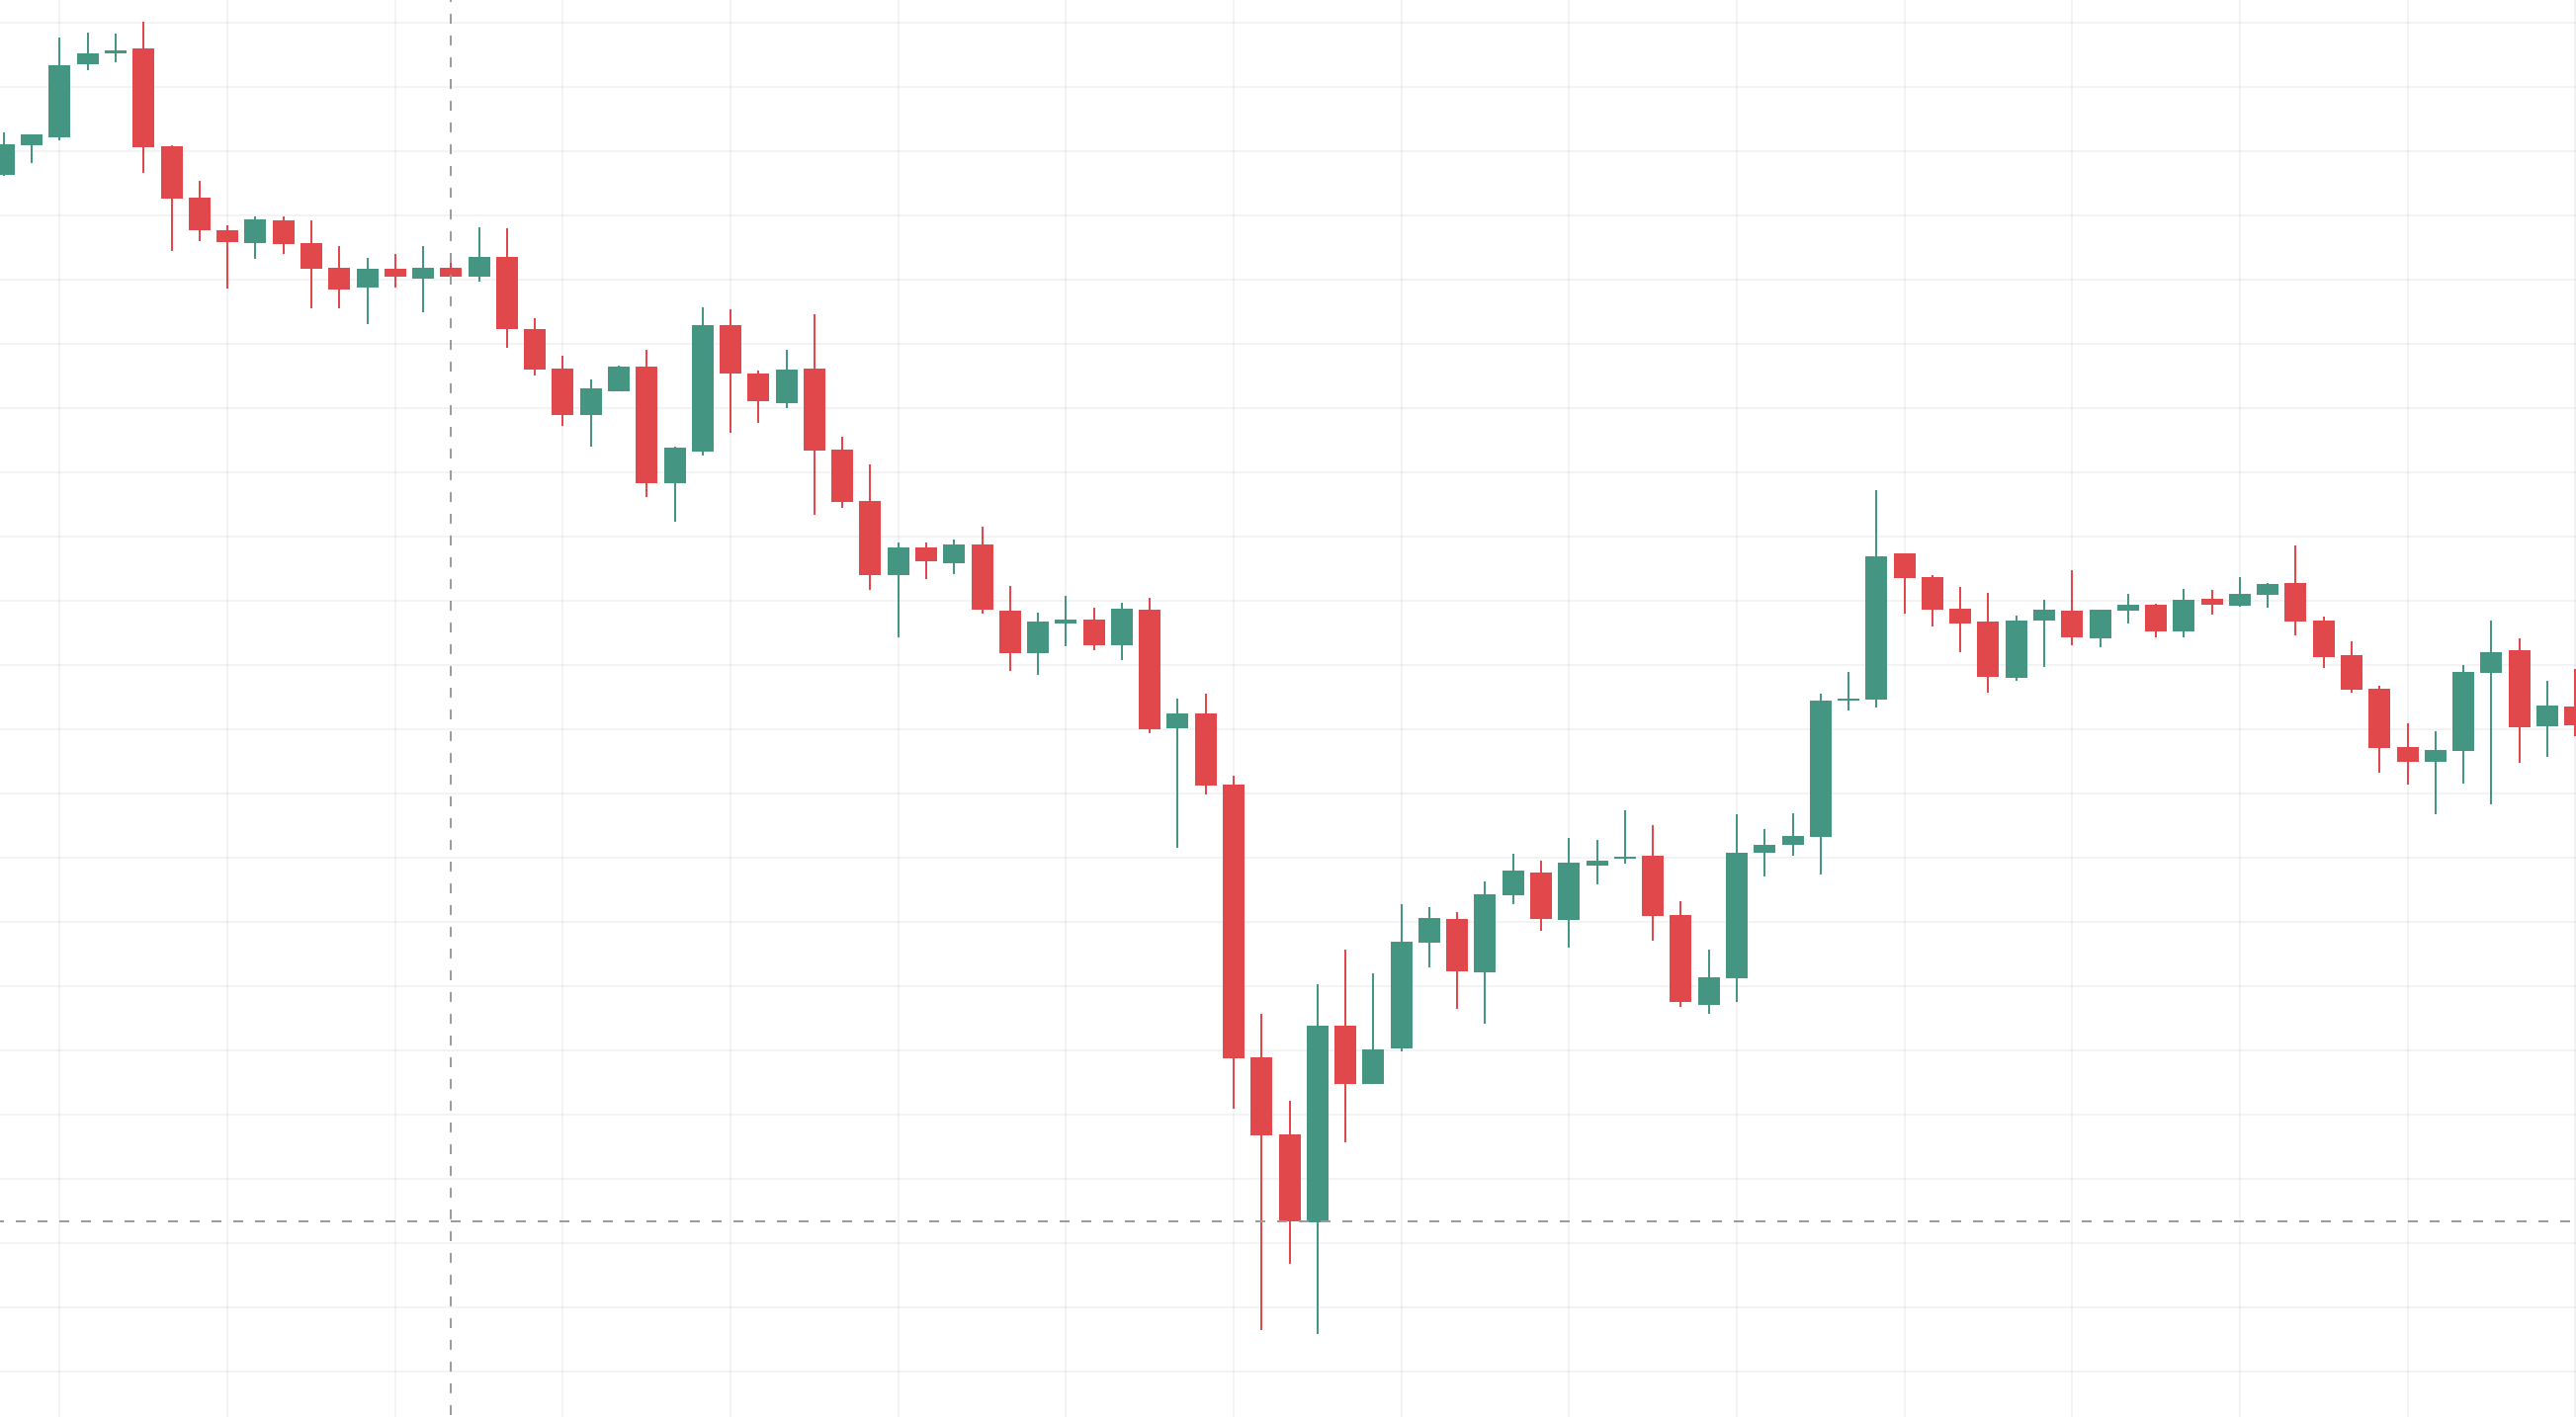V-turn: (1059, 401, 1452, 1396)
